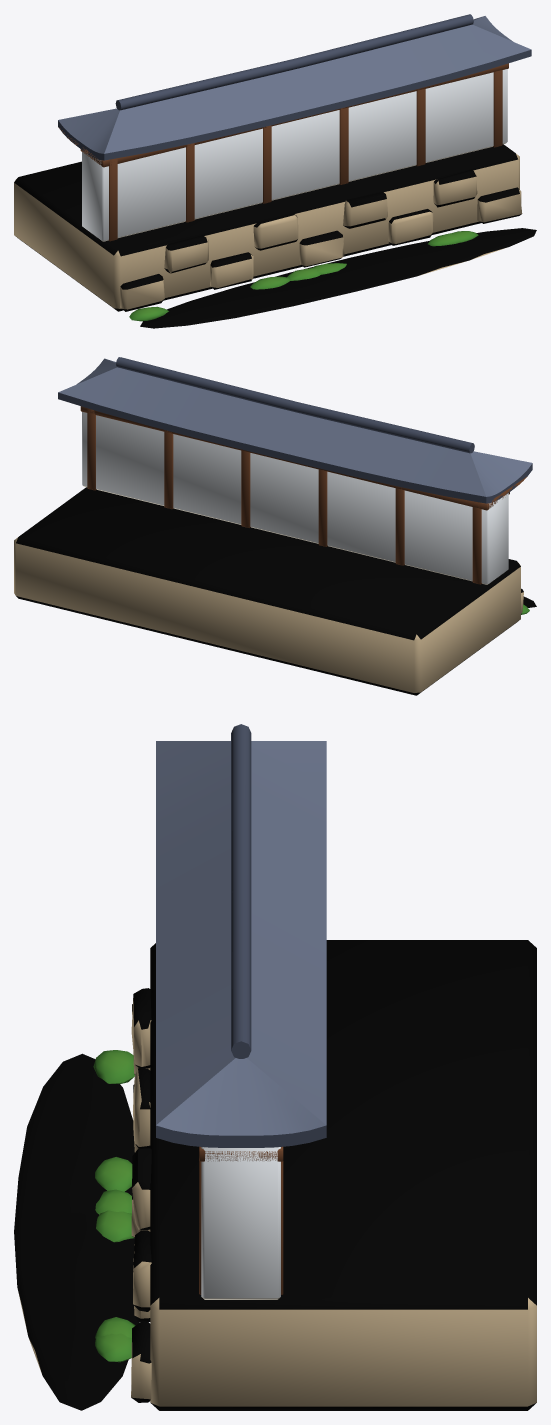
File: ShrineWallA.fbx
3 renders of one model, top to bottom at view 1: azimuth 30°, elevation 25°; view 2: azimuth 150°, elevation 25°; view 3: azimuth 270°, elevation 25°, orthographic. The views are drawn at different scales.
Parts seen in each view (by area): view 1: ShrineWallA; view 2: ShrineWallA; view 3: ShrineWallA.
Boxes of the visible parts, x1=… form: ShrineWallA: x1=14, y1=14, x2=536, y2=328; ShrineWallA: x1=14, y1=357, x2=536, y2=695; ShrineWallA: x1=14, y1=724, x2=536, y2=1410.
Size of the model in its own units: 8 by 3.45 by 4.6.
Materials: 1 (1 with a texture image).
